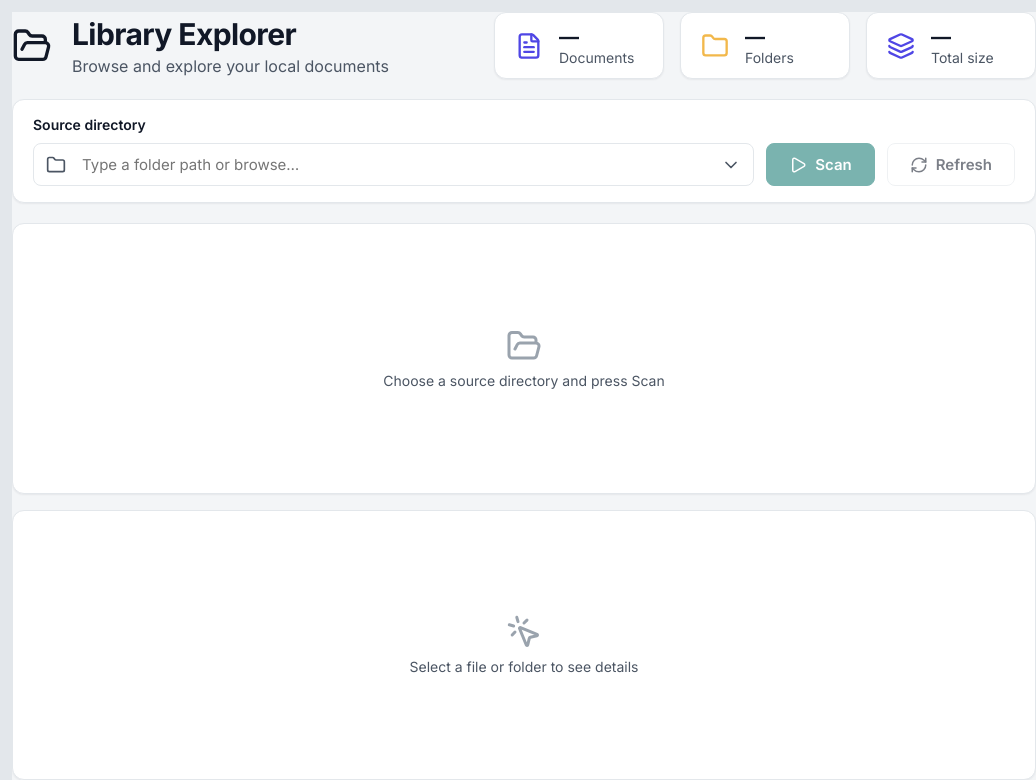
Test: LibraryPage › remembers scanned folders in the recent list
The width and height of the screenshot is (1036, 780).
Type "C:/Docs/Knowledge" into the field labelled "Source directory" at (394, 164), box x1=78 y1=144 x2=709 y2=185
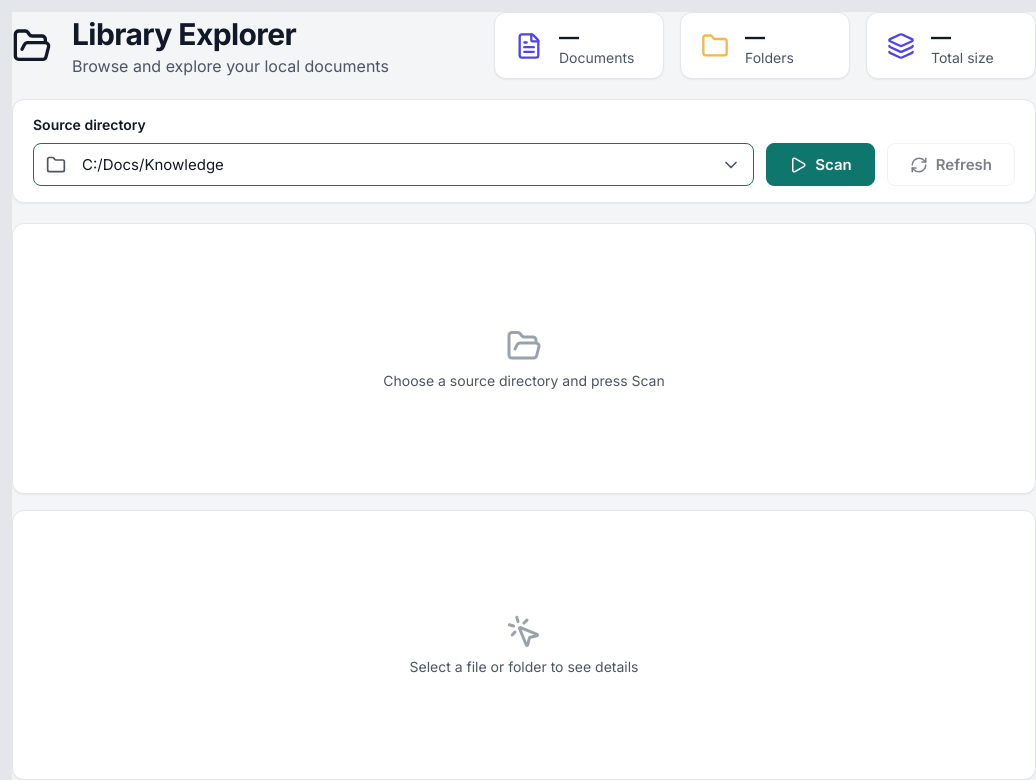
Click the button "Scan" at (820, 164), box x1=766 y1=143 x2=875 y2=186
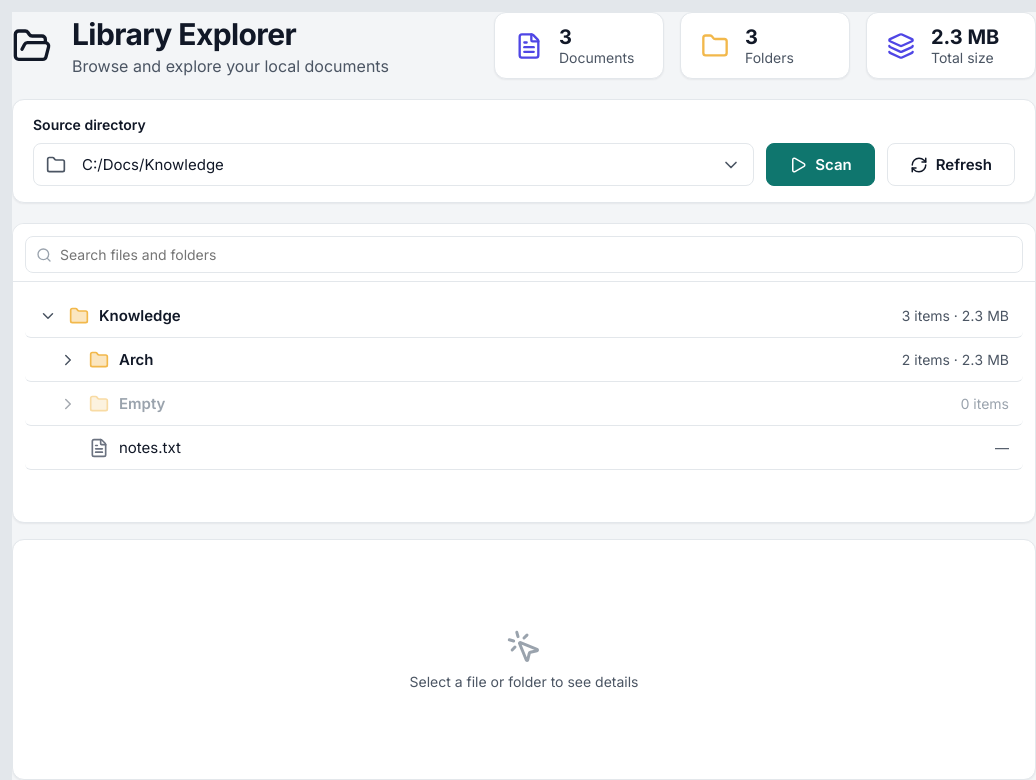
Expected: the element with test id "stat-Documents" is shown, x1=494 y1=12 x2=664 y2=79
Click the button named "Recent folders" at (731, 164), box x1=709 y1=146 x2=753 y2=182
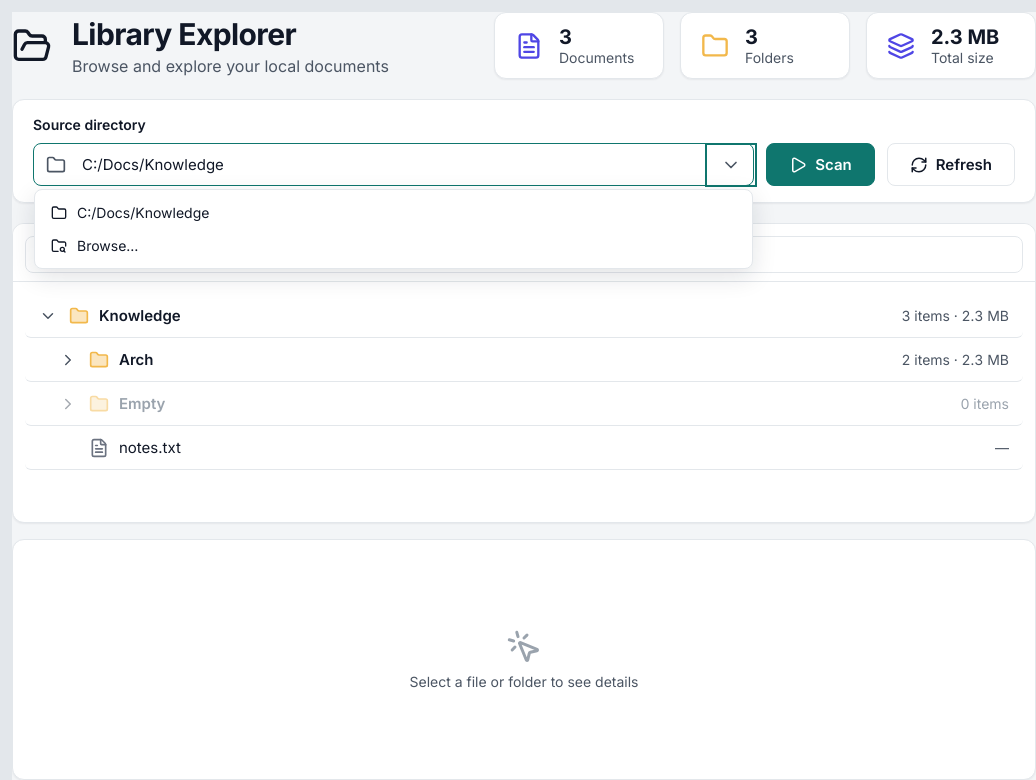
Expected: the button "C:/Docs/Knowledge" is shown, x1=41 y1=196 x2=746 y2=229
